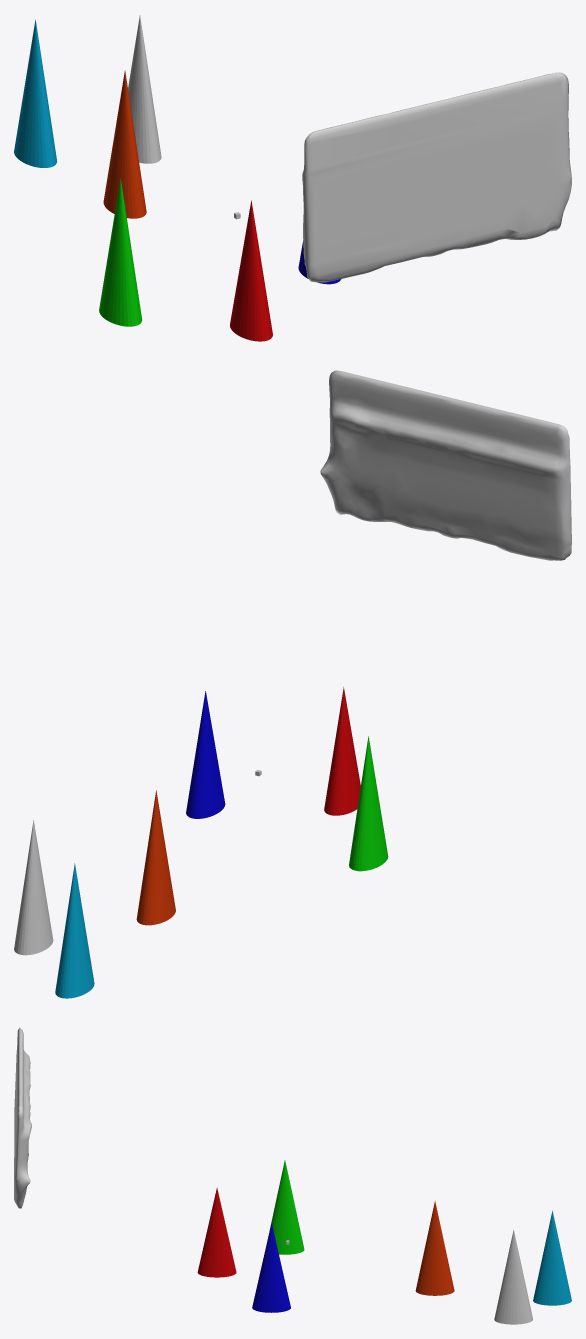
3 renders of one model, top to bottom at view 1: azimuth 30°, elevation 25°; view 2: azimuth 150°, elevation 25°; view 3: azimuth 270°, elevation 25°, orthographic. The views are drawn at different scales.
Visible parts, largest first — view 1: Liquid_Domain, 円錐.003, 円錐.005, 円錐.001, 円錐.004, 円錐; view 2: Liquid_Domain, 円錐.005, 円錐, 円錐.003, 円錐.004, 円錐.002, 円錐.001; view 3: Liquid_Domain, 円錐, 円錐.005, 円錐.004, 円錐.001, 円錐.002, 円錐.003.
Part boxes in pixels (bbox=[...]): Liquid_Domain: bbox=[302, 72, 571, 282]; 円錐.003: bbox=[99, 178, 142, 326]; 円錐.005: bbox=[14, 19, 56, 167]; 円錐.001: bbox=[230, 200, 272, 341]; 円錐.004: bbox=[103, 70, 146, 218]; 円錐: bbox=[128, 15, 161, 163]; Liquid_Domain: bbox=[320, 370, 571, 560]; 円錐.005: bbox=[55, 863, 94, 998]; 円錐: bbox=[14, 820, 53, 955]; 円錐.003: bbox=[349, 736, 388, 871]; 円錐.004: bbox=[136, 790, 175, 925]; 円錐.002: bbox=[186, 691, 225, 818]; 円錐.001: bbox=[324, 687, 360, 815]; Liquid_Domain: bbox=[14, 1027, 31, 1208]; 円錐: bbox=[494, 1230, 532, 1324]; 円錐.005: bbox=[533, 1210, 571, 1305]; 円錐.004: bbox=[415, 1201, 454, 1295]; 円錐.001: bbox=[197, 1187, 236, 1277]; 円錐.002: bbox=[252, 1223, 290, 1312]; 円錐.003: bbox=[270, 1160, 304, 1254].
Bounding box in the file's own units: 125 × 158 × 344.
